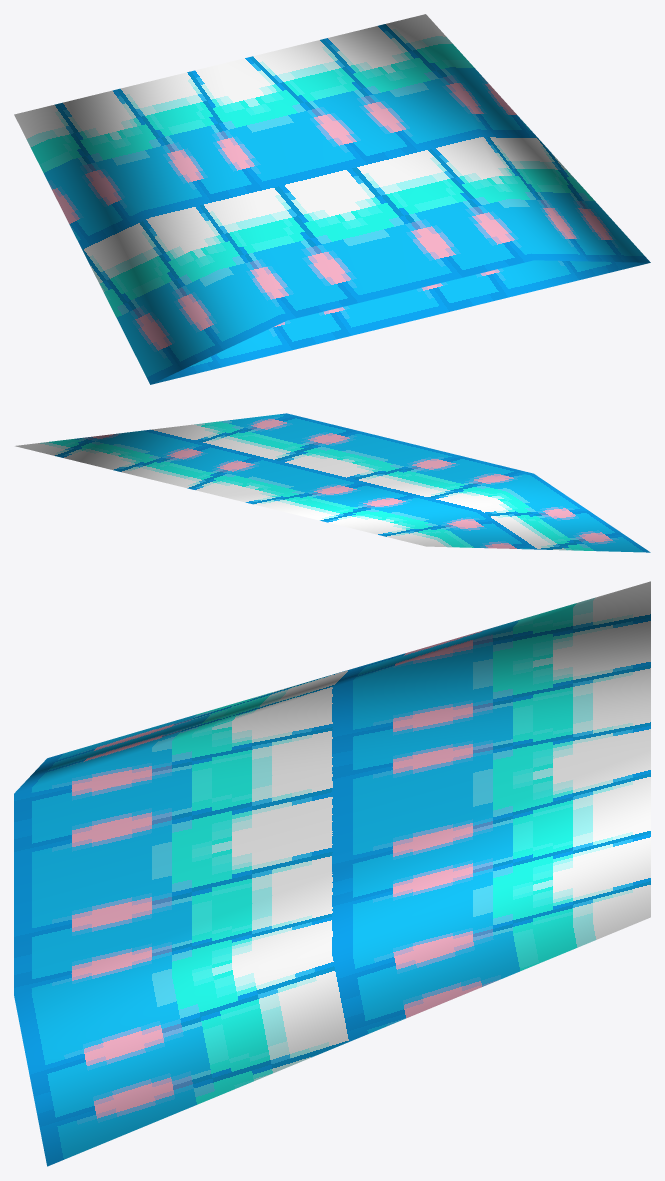
The model's file is 2331skirt00_r.gltf.
The picture shows the model from 3 angles, top to bottom: view 1: azimuth 30°, elevation 25°; view 2: azimuth 150°, elevation 25°; view 3: azimuth 270°, elevation 25°; orthographic projection. The views are drawn at different scales.
Visible parts, largest first — view 1: 2331skirt00_r; view 2: 2331skirt00_r; view 3: 2331skirt00_r.
Boxes of the visible parts, x1=… form: 2331skirt00_r: x1=14, y1=14, x2=650, y2=384; 2331skirt00_r: x1=15, y1=413, x2=650, y2=552; 2331skirt00_r: x1=14, y1=581, x2=650, y2=1166.
Size of the model in its own units: 0.9868 by 0.24 by 0.6504.
1 material, 1 textured.
